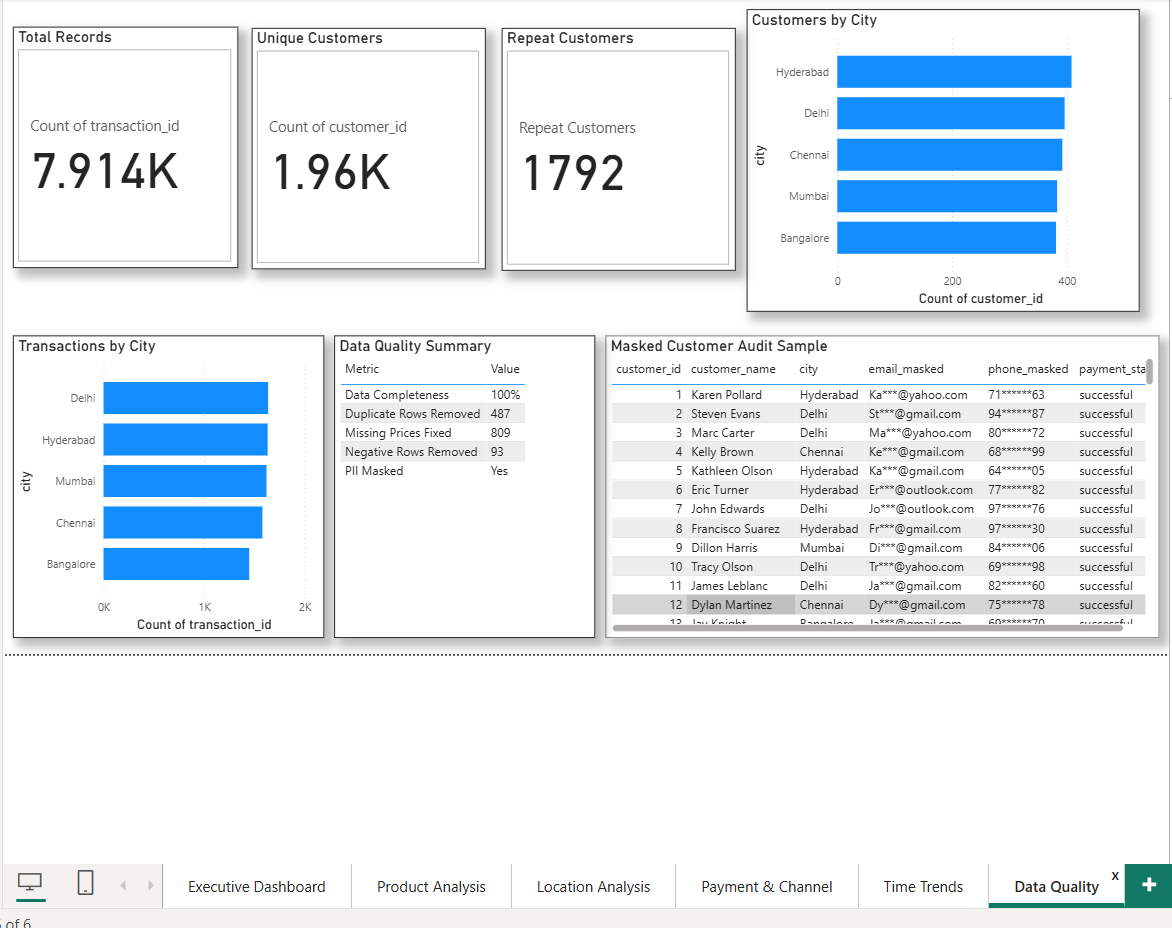

The dashboard page shown, as its layout file describes it:
{"tool":"powerbi","page":{"name":"Data Quality","canvas":[1280,720],"ordinal":5},"visuals":[{"type":"cardVisual","title":"Total Records","fields":{"Data":["CountNonNull(retail_master_curated.transaction_id)"]},"box":[11,31.6,247,264.8],"z":0},{"type":"cardVisual","title":"Unique Customers","fields":{"Data":["Count(retail_master_curated.customer_id)"]},"box":[273.1,32.9,256.6,264.8],"z":1000},{"type":"clusteredBarChart","title":"Transactions by City","fields":{"Category":["retail_master_curated.city"],"Y":["CountNonNull(retail_master_curated.transaction_id)"]},"box":[11,370.5,341.7,332.1],"z":2000},{"type":"clusteredBarChart","title":"Customers by City","fields":{"Category":["retail_master_curated.city"],"Y":["Count(retail_master_curated.customer_id)"]},"box":[816.5,12.3,430.9,332.1],"z":3000},{"type":"tableEx","title":"Masked Customer Audit Sample","fields":{"Values":["retail_master_curated.customer_id","retail_master_curated.customer_name","retail_master_curated.city","retail_master_curated.email_masked","retail_master_curated.phone_masked","retail_master_curated.payment_status"]},"box":[661.4,370.5,607.9,332.1],"z":4000},{"type":"cardVisual","title":"Repeat Customers","fields":{"Data":["retail_master_curated.Repeat Customers"]},"box":[547.5,32.9,256.6,266.2],"z":5000},{"type":"tableEx","title":"Data Quality Summary","fields":{"Values":["dq_summary.Metric","dq_summary.Value"]},"box":[363.6,370.5,286.8,332.1],"z":6000}]}

Visuals, with their boxes in screenshot pixels (x1, y1, x2, y2):
"Total Records" cardVisual: box=[13, 25, 236, 265]
"Unique Customers" cardVisual: box=[250, 27, 481, 266]
"Transactions by City" clusteredBarChart: box=[13, 332, 322, 631]
"Customers by City" clusteredBarChart: box=[740, 8, 1129, 308]
"Masked Customer Audit Sample" tableEx: box=[600, 332, 1149, 631]
"Repeat Customers" cardVisual: box=[497, 27, 729, 267]
"Data Quality Summary" tableEx: box=[331, 332, 590, 631]
